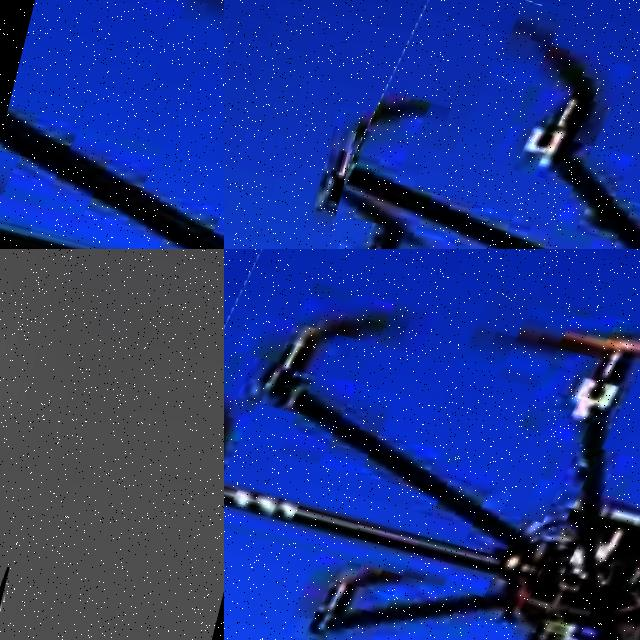drone: (224, 249, 640, 640), (259, 0, 640, 249), (0, 0, 224, 249)
